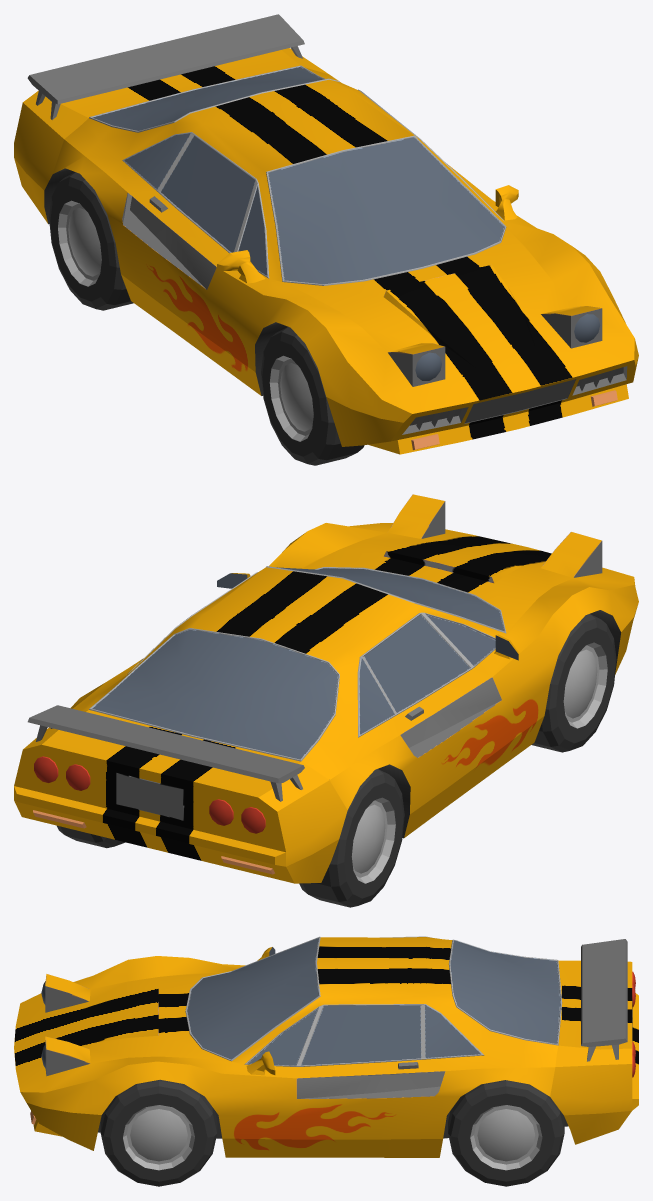
The model's file is Car_03 (2).fbx.
3 views of the same model, one above another, from view 1: azimuth 30°, elevation 25°; view 2: azimuth 150°, elevation 25°; view 3: azimuth 270°, elevation 25° (orthographic). The views are drawn at different scales.
Visible parts, largest first — view 1: body, bodypart_up, wheel_FR, wheel_RR, bodypart_right; view 2: body, bodypart_down, bodypart_up, wheel_RR, wheel_FR, bodypart_right, wheel_RL; view 3: body, wheel_FL, wheel_RL, bodypart_up, bodypart_left, bodypart_down.
Part boxes in pixels (x1,y1,x2,y2): body: (44,65,638,454); bodypart_up: (23,14,328,138); wheel_FR: (261,327,364,465); wheel_RR: (49,172,133,310); bodypart_right: (14,102,63,223); body: (70,494,638,838); bodypart_down: (14,744,294,883); bodypart_up: (23,705,329,811); wheel_RR: (299,769,404,907); wheel_FR: (531,614,616,752); bodypart_right: (277,780,347,883); wheel_RL: (57,825,125,848); body: (14,936,568,1157); wheel_FL: (100,1079,217,1186); wheel_RL: (448,1080,564,1186); bodypart_up: (555,939,632,1066); bodypart_left: (550,1064,632,1144); bodypart_down: (632,971,638,1110).
Bounding box in the file's own units: 279 × 183 × 610.
